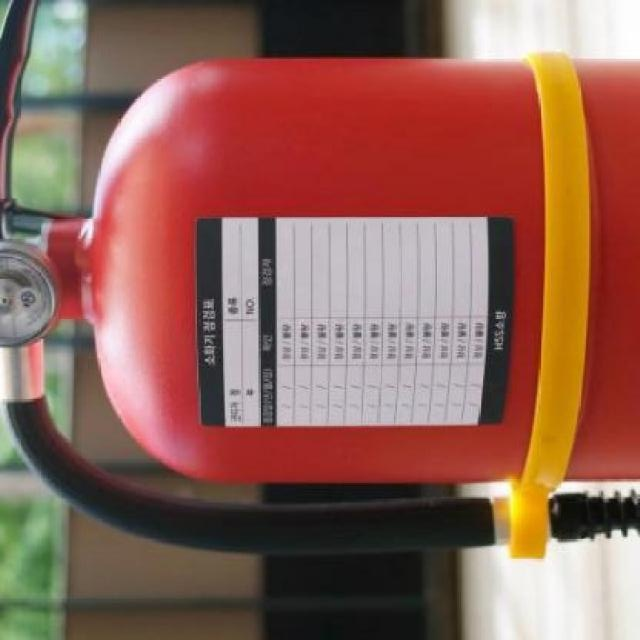fire extinguisher: (0, 0, 640, 562)
